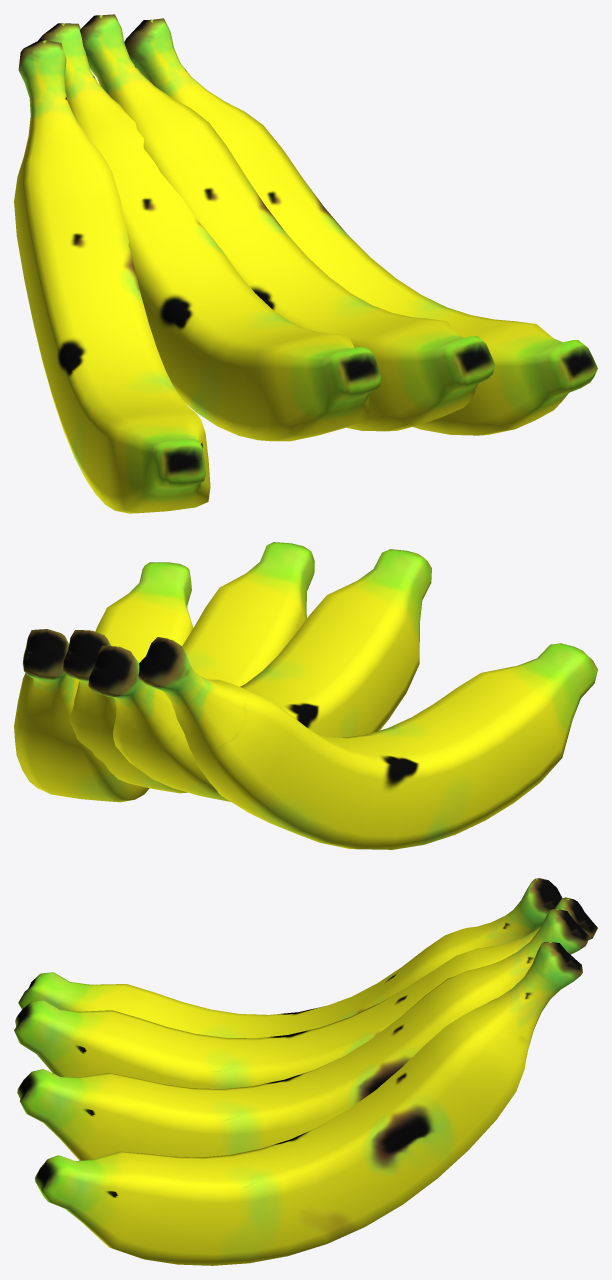
The model's file is banana.fbx.
3 views of the same model, one above another, from view 1: azimuth 30°, elevation 25°; view 2: azimuth 150°, elevation 25°; view 3: azimuth 270°, elevation 25° (orthographic). The views are drawn at different scales.
Visible parts, largest first — view 1: Cube.003; view 2: Cube.003; view 3: Cube.003.
Part boxes in pixels (bbox=[...]): Cube.003: bbox=[14, 14, 597, 513]; Cube.003: bbox=[14, 542, 597, 849]; Cube.003: bbox=[14, 878, 597, 1265].
Bounding box in the file's own units: 248 × 160 × 305.
